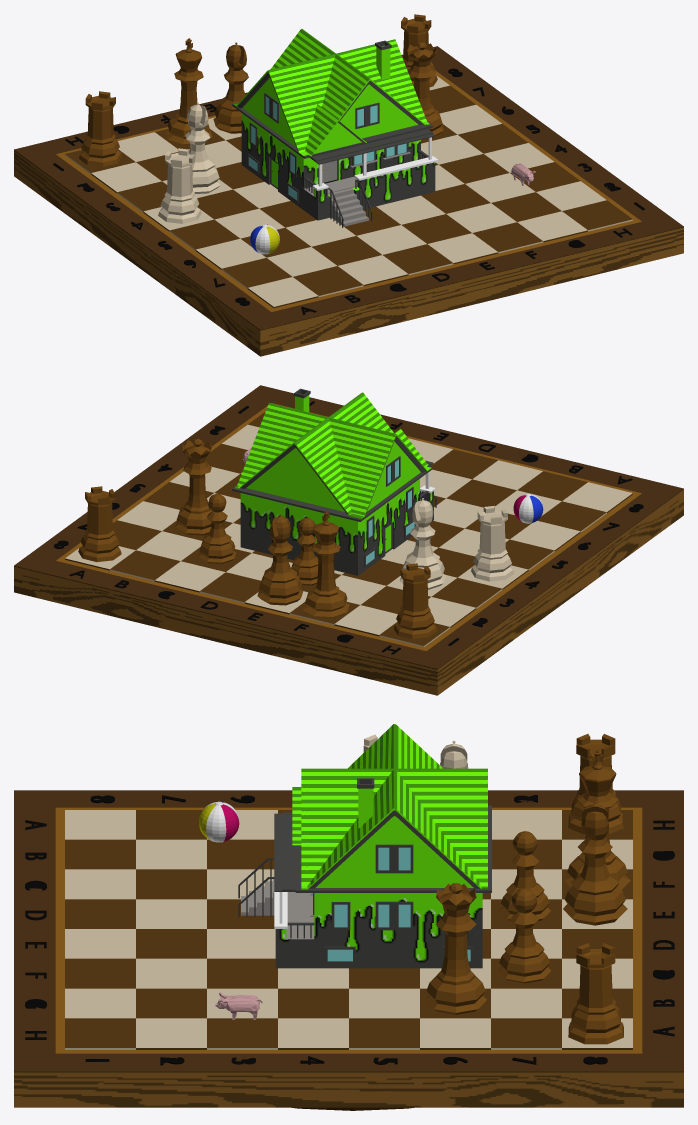
The picture shows the model from 3 angles, top to bottom: view 1: azimuth 30°, elevation 25°; view 2: azimuth 150°, elevation 25°; view 3: azimuth 270°, elevation 25°; orthographic projection. The views are drawn at different scales.
Visible parts, largest first — view 1: Cube.002, Cube.754, OBJRANDOM_BEACHBALL; view 2: Cube.002, Cube.754, OBJRANDOM_BEACHBALL; view 3: Cube.002, Cube.754, OBJRANDOM_BEACHBALL, ANIMAL_CERDO.
Part boxes in pixels (x1,y1,x2,y2): Cube.002: [14, 14, 683, 356]; Cube.754: [232, 29, 438, 227]; OBJRANDOM_BEACHBALL: [250, 224, 279, 254]; Cube.002: [14, 385, 683, 695]; Cube.754: [232, 388, 436, 575]; OBJRANDOM_BEACHBALL: [513, 493, 543, 523]; Cube.002: [14, 734, 683, 1107]; Cube.754: [238, 724, 491, 968]; OBJRANDOM_BEACHBALL: [199, 801, 239, 842]; ANIMAL_CERDO: [215, 992, 262, 1019].
Size of the model in its own units: 3981 by 1550 by 4012.
Materials: 29 (3 with a texture image).
